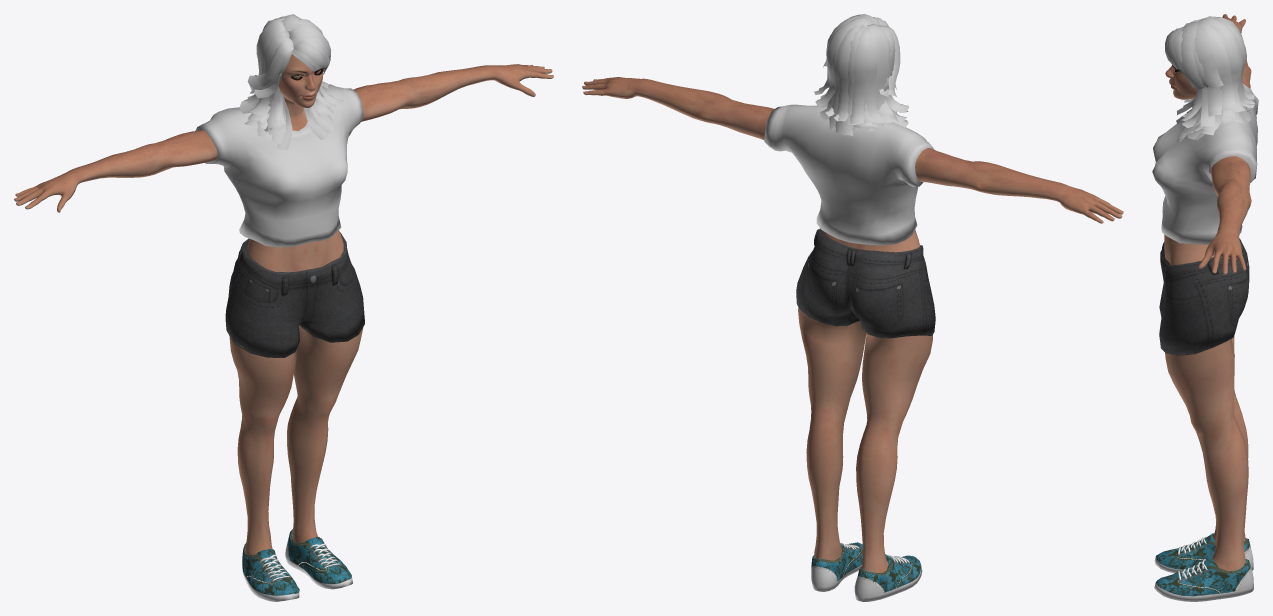
Rendered from Woman2.obj.
The picture shows the model from 3 angles, left to right: view 1: azimuth 30°, elevation 25°; view 2: azimuth 150°, elevation 25°; view 3: azimuth 270°, elevation 25°; orthographic projection.
Parts seen in each view (by area): view 1: Body, Tops, Bottoms, Hair, Shoes; view 2: Body, Tops, Bottoms, Hair, Shoes; view 3: Body, Tops, Hair, Bottoms, Shoes.
Part boxes in pixels (x1,y1,x2,y2): Body: [14, 54, 553, 558]; Tops: [195, 84, 363, 247]; Bottoms: [225, 232, 364, 357]; Hair: [239, 14, 343, 150]; Shoes: [242, 529, 352, 601]; Body: [582, 77, 1123, 582]; Tops: [764, 104, 934, 245]; Bottoms: [796, 228, 935, 338]; Hair: [814, 14, 908, 135]; Shoes: [811, 542, 922, 601]; Body: [1164, 14, 1251, 573]; Tops: [1152, 83, 1258, 244]; Hair: [1165, 16, 1256, 141]; Bottoms: [1159, 238, 1249, 355]; Shoes: [1154, 533, 1253, 601].
Bounding box in the file's own units: 178 × 178 × 30.54.
